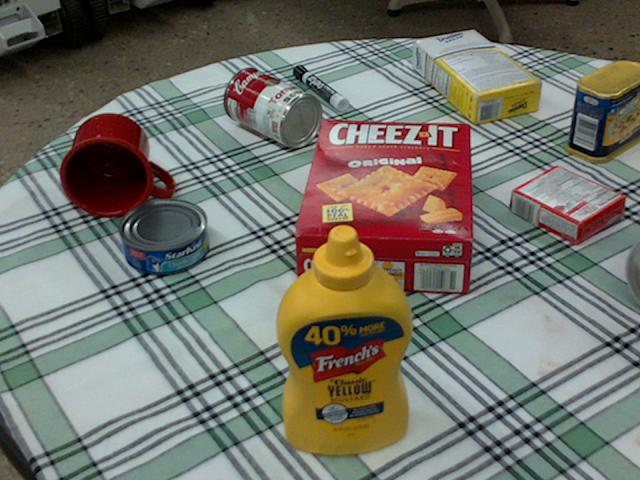cracker_box: (293, 119, 474, 293)
gelatin_box: (509, 165, 622, 242)
large_marker: (292, 64, 347, 109)
master_chef_can: (628, 241, 639, 301)
mug: (60, 112, 172, 216)
mustard_bottle: (277, 223, 414, 453)
potted_meat_can: (563, 60, 639, 162)
sugar_box: (413, 30, 544, 124)
tomato_soup_can: (223, 66, 321, 146)
tuna_fish_can: (116, 198, 207, 274)
